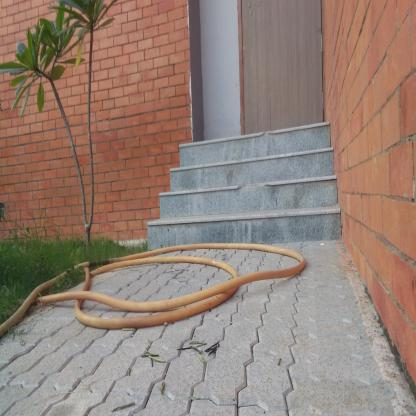stairs: (186, 131, 328, 255)
